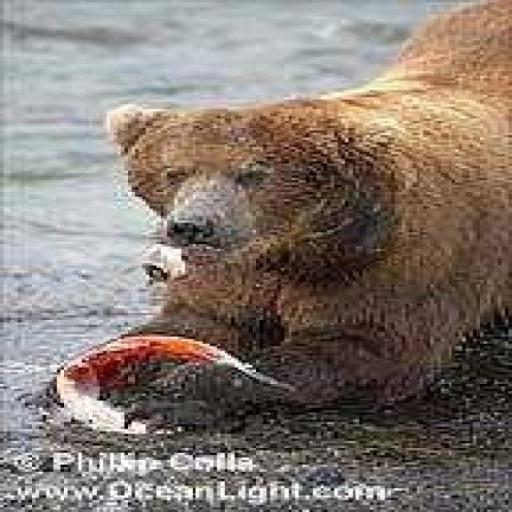Rhino: (39, 0, 508, 434)
